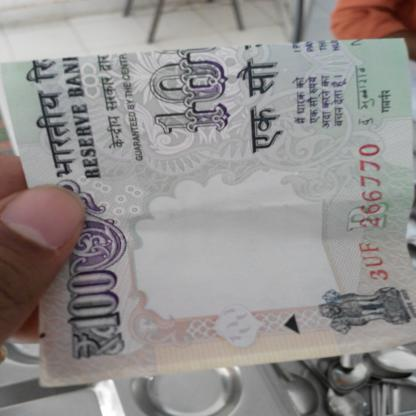Old100Front: (0, 38, 416, 390)
